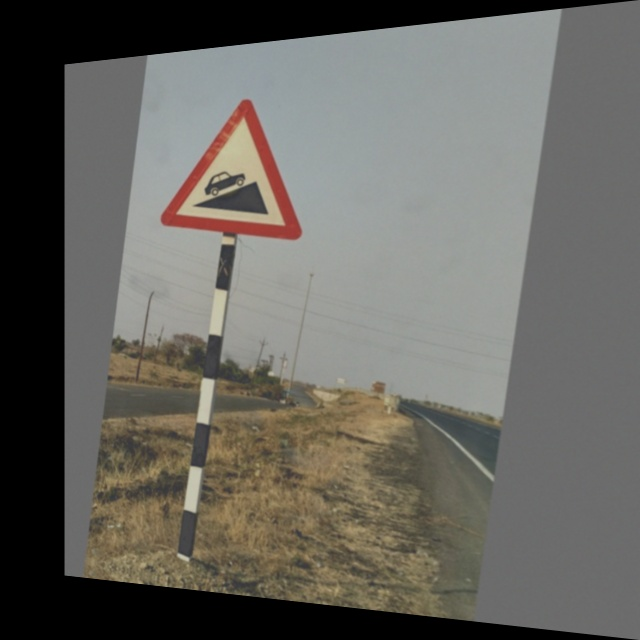Steep_Ascent: (155, 81, 320, 253)
